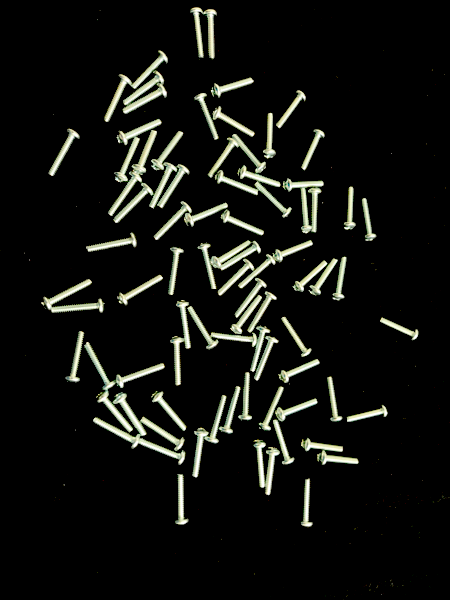longscrew: (40, 278, 93, 312), (112, 183, 154, 225), (94, 390, 134, 434), (46, 128, 81, 178), (106, 171, 143, 218), (92, 416, 141, 450), (153, 200, 193, 241), (150, 390, 188, 433), (84, 340, 116, 391), (140, 416, 185, 452), (112, 391, 147, 437), (131, 50, 170, 91), (117, 273, 164, 307), (157, 164, 191, 210), (122, 83, 168, 117), (254, 181, 293, 220), (187, 305, 220, 351), (123, 71, 166, 106), (136, 437, 186, 467), (102, 74, 132, 124), (217, 258, 255, 297), (237, 253, 277, 290), (231, 133, 267, 174), (149, 130, 184, 172), (233, 278, 268, 319), (115, 361, 166, 389), (111, 137, 141, 184), (212, 106, 256, 138), (229, 294, 263, 335), (149, 162, 178, 210), (280, 316, 313, 358), (206, 138, 239, 180), (116, 118, 162, 148), (192, 92, 220, 141), (247, 291, 278, 335), (220, 241, 262, 272), (292, 259, 329, 294), (211, 239, 252, 270), (214, 169, 259, 197), (308, 258, 340, 297), (63, 330, 86, 384), (257, 387, 284, 432), (184, 202, 229, 229), (220, 210, 265, 237), (131, 130, 158, 175), (276, 91, 307, 130), (204, 395, 228, 445), (254, 335, 279, 382), (299, 129, 326, 172), (272, 418, 296, 466), (196, 242, 219, 292), (278, 358, 320, 385), (237, 164, 282, 189), (210, 75, 255, 100), (85, 233, 138, 254), (219, 386, 242, 434), (275, 398, 319, 422), (249, 325, 271, 372), (379, 317, 420, 342), (190, 428, 210, 479), (166, 246, 186, 297), (50, 298, 106, 316), (273, 240, 314, 264), (187, 7, 205, 61), (173, 472, 190, 526), (325, 375, 344, 423), (263, 446, 281, 496), (174, 300, 192, 350), (345, 404, 389, 424), (330, 256, 349, 302), (168, 336, 185, 387), (237, 372, 254, 422), (211, 331, 258, 349), (360, 197, 378, 243), (203, 8, 218, 62), (252, 440, 268, 490), (261, 113, 278, 160), (316, 450, 360, 467), (282, 177, 326, 194), (308, 188, 324, 234), (341, 186, 357, 231), (301, 437, 345, 453), (298, 188, 313, 234), (300, 478, 313, 528)
